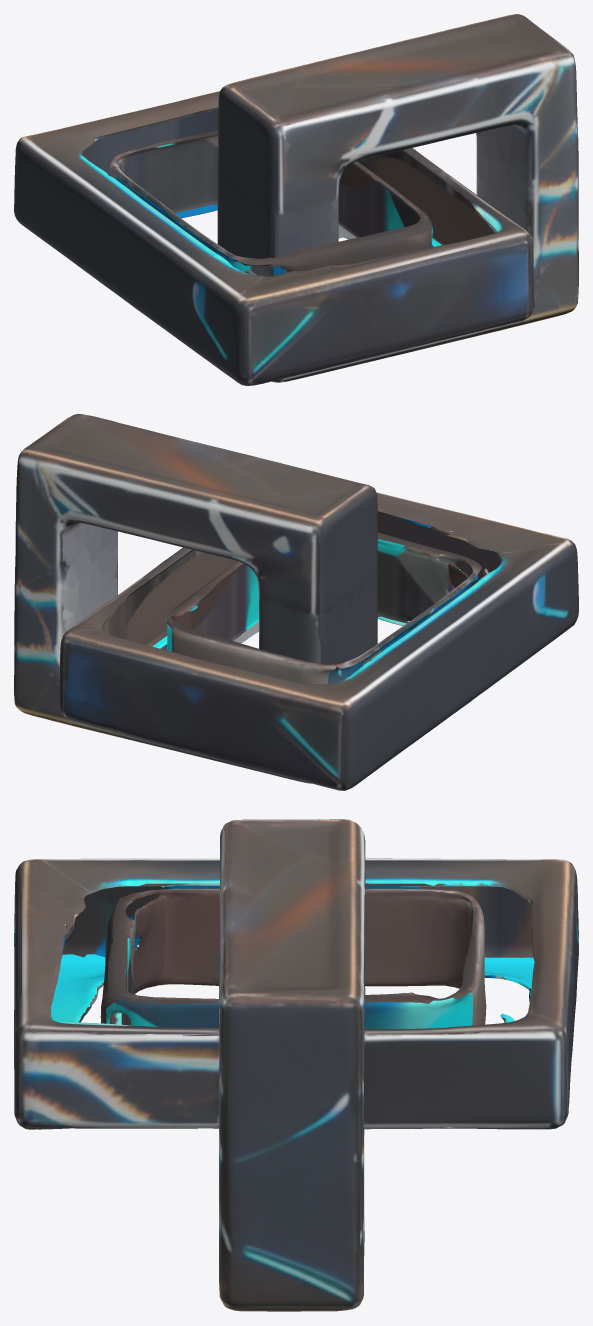
Rendered from asset_zdnmonYoHpjjfNsLAct7hi25.glb.
3 renders of one model, top to bottom at view 1: azimuth 30°, elevation 25°; view 2: azimuth 150°, elevation 25°; view 3: azimuth 270°, elevation 25°, orthographic. The views are drawn at different scales.
Parts seen in each view (by area): view 1: tmp4aihuafr.ply; view 2: tmp4aihuafr.ply; view 3: tmp4aihuafr.ply.
Part boxes in pixels (box(x1,y1,x2,y2)): tmp4aihuafr.ply: box(14, 14, 578, 385); tmp4aihuafr.ply: box(14, 414, 578, 790); tmp4aihuafr.ply: box(14, 819, 578, 1311).
Size of the model in its own units: 1.99 by 1.19 by 1.89.
Materials: 1 (1 with a texture image).
